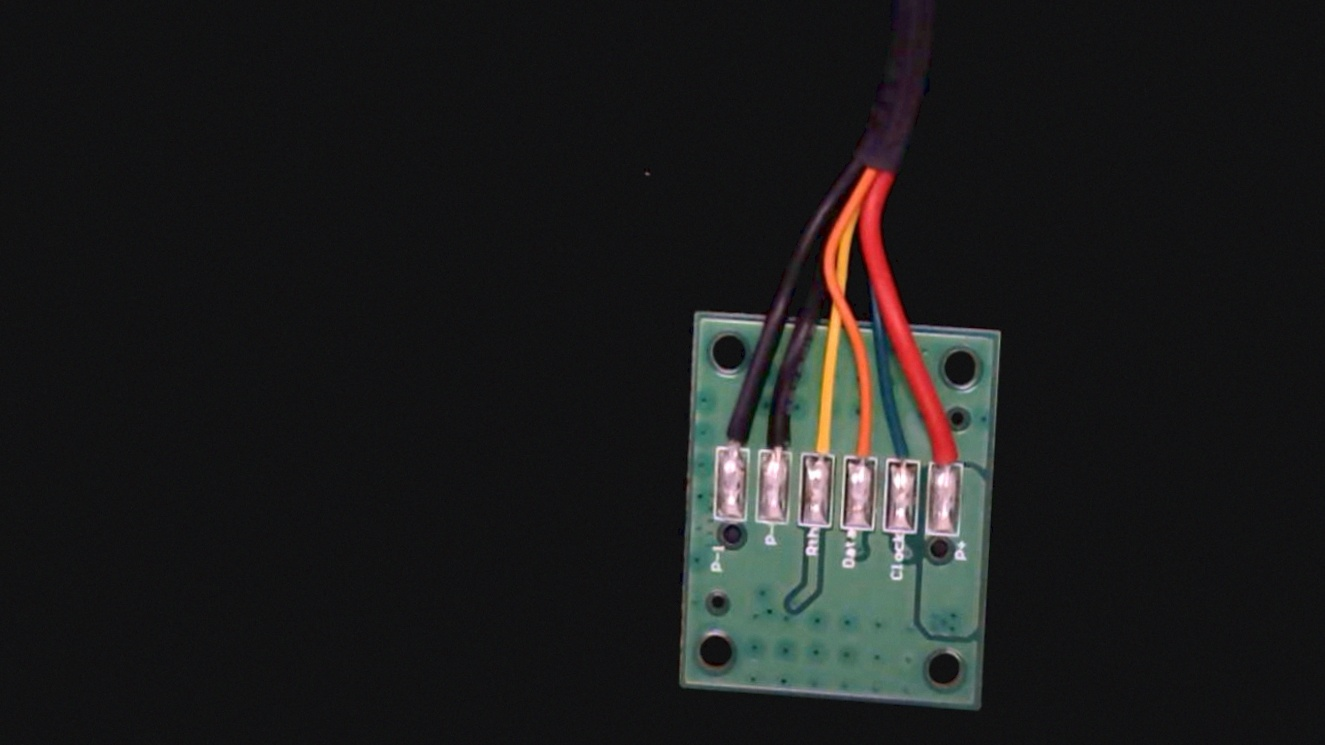Black: (758, 394, 796, 473)
Black1: (715, 399, 752, 470)
Green: (887, 410, 925, 482)
Orange: (845, 405, 881, 479)
Red: (927, 399, 967, 481)
Yellow: (801, 395, 838, 478)
